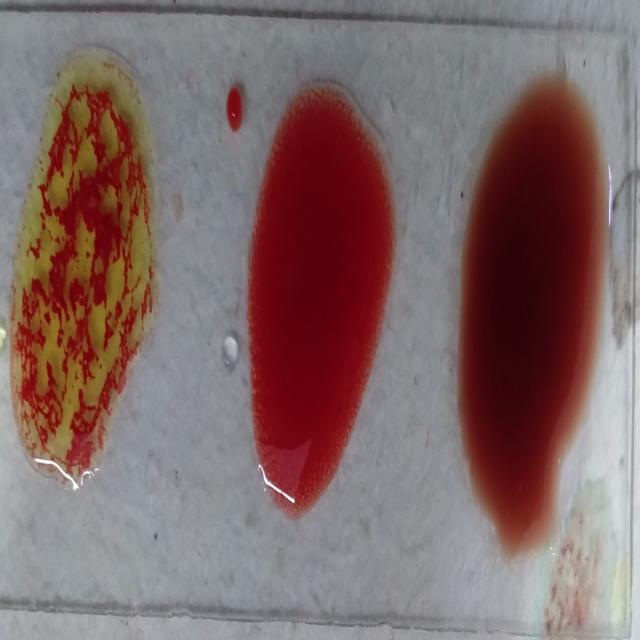B: (13, 46, 153, 493)
